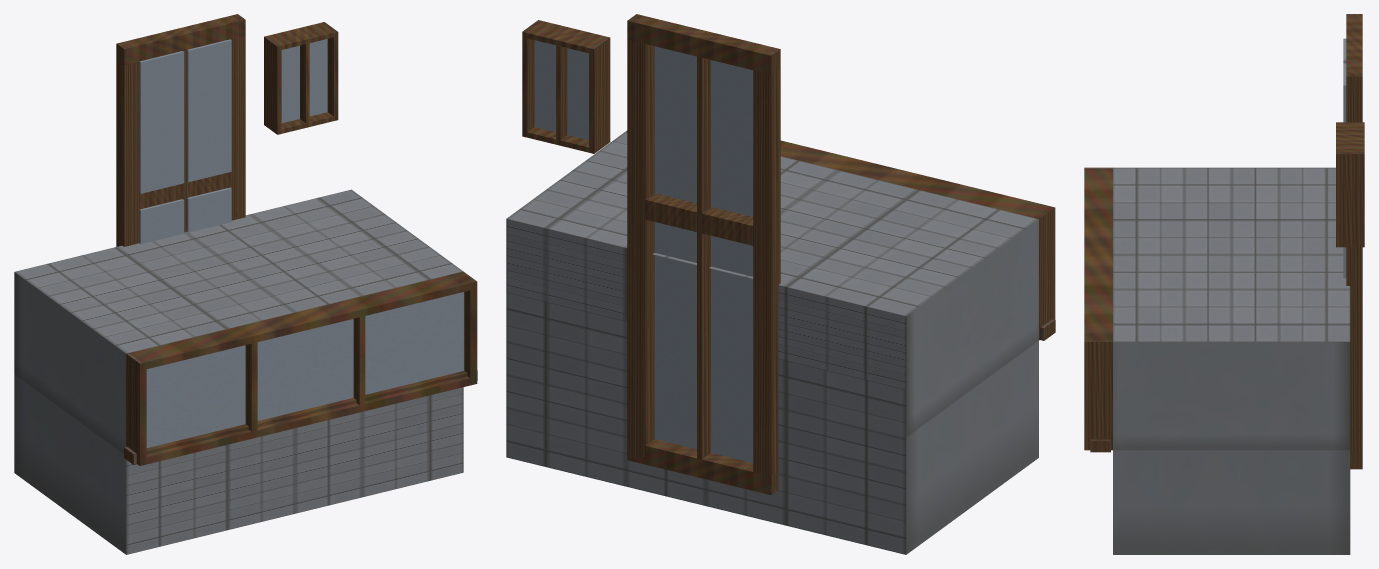
The model's file is balcony.obj.
3 views of the same model, side by side, from view 1: azimuth 30°, elevation 25°; view 2: azimuth 150°, elevation 25°; view 3: azimuth 270°, elevation 25° (orthographic). The views are drawn at different scales.
Size of the model in its own units: 2.04 by 2.26 by 1.36.
